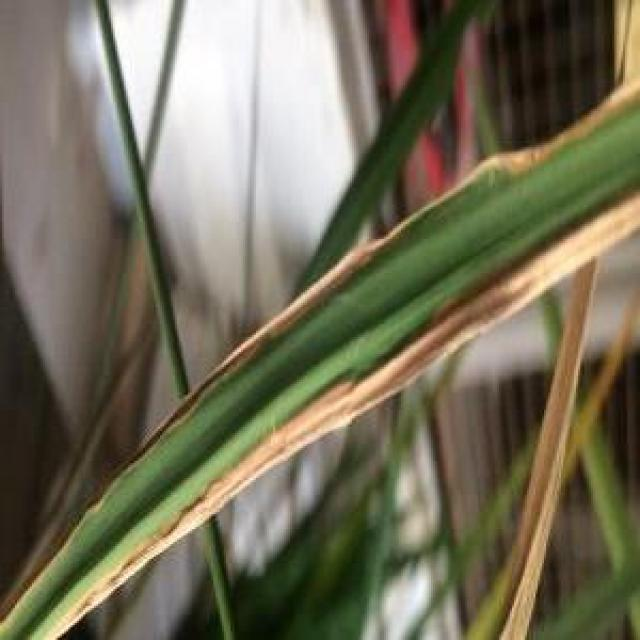leaf blight: (27, 79, 640, 638)
